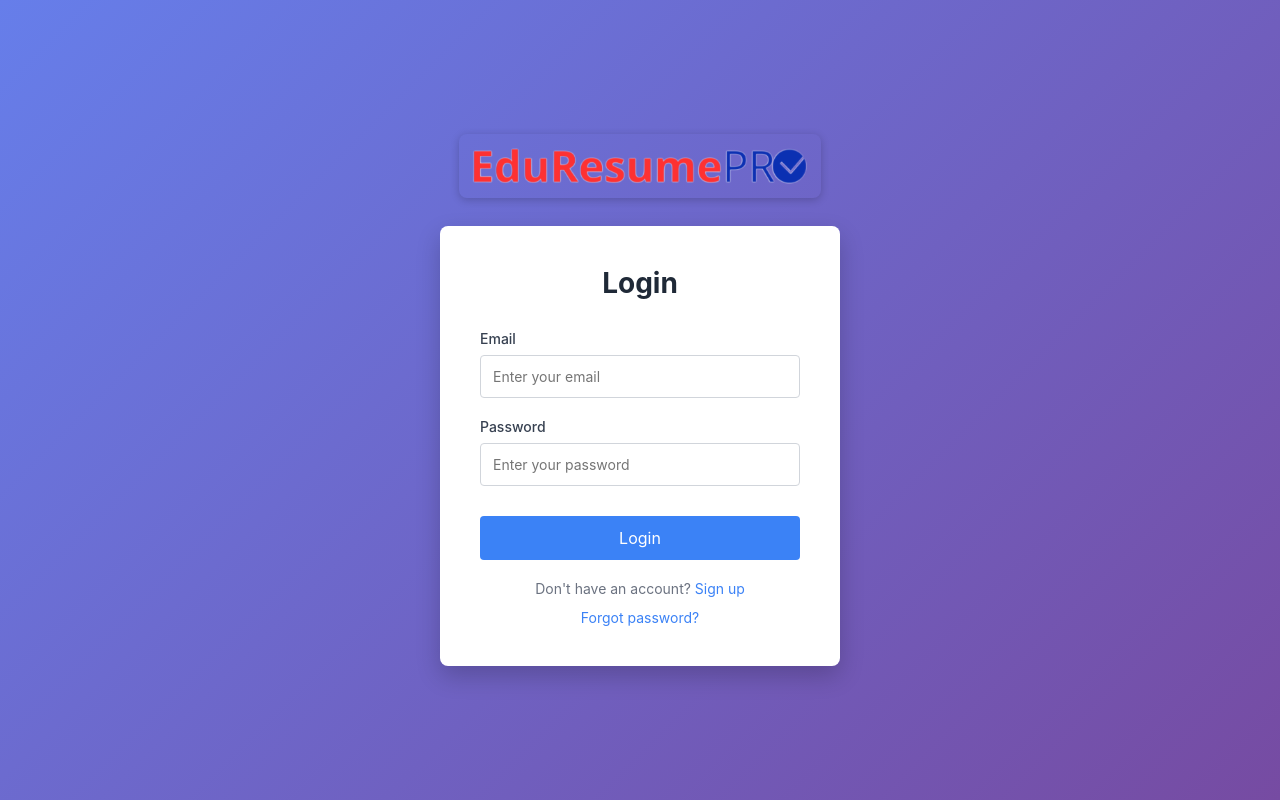
Scenario: Login Component › handles invalid login credentials gracefully
Type "bad@test.com" into the field labelled "Email" at (640, 376), box [480, 355, 800, 398]
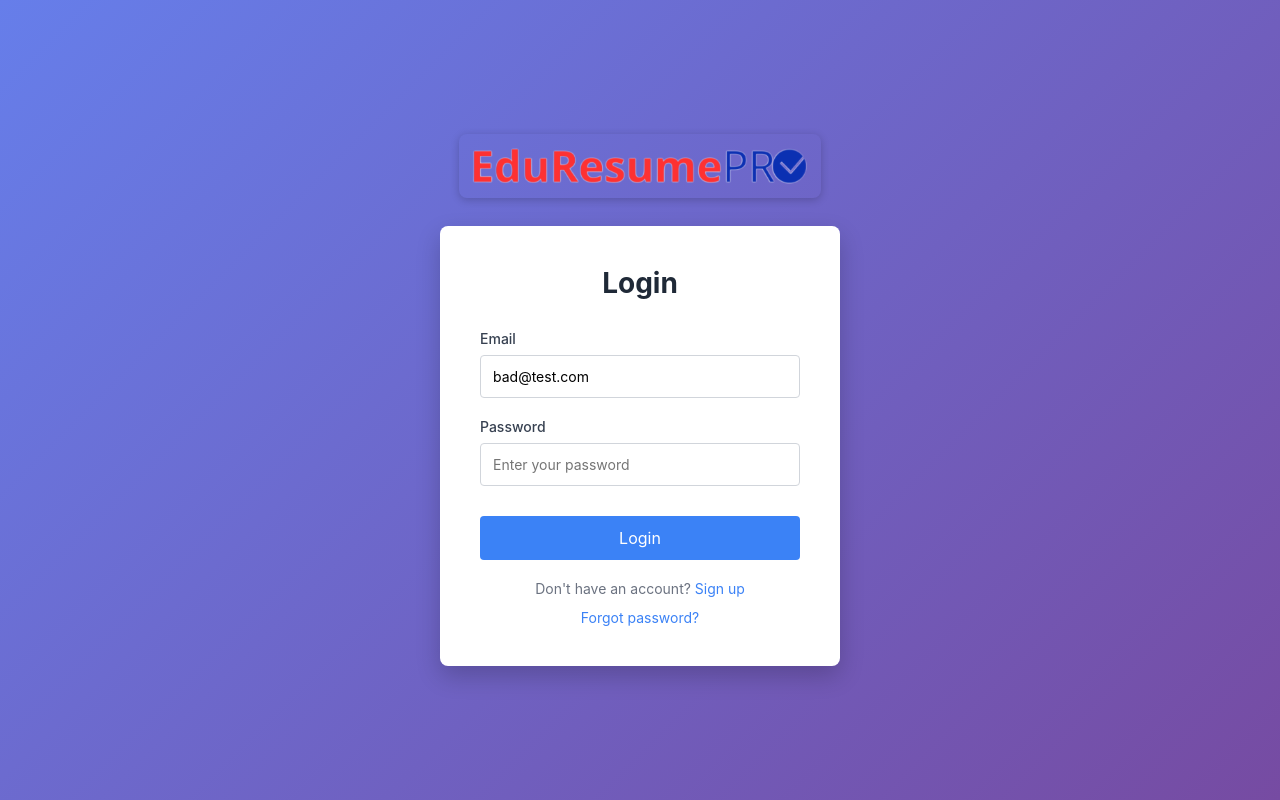
Type "wrong" into the password field labelled "Password" at (640, 464), box [480, 443, 800, 486]
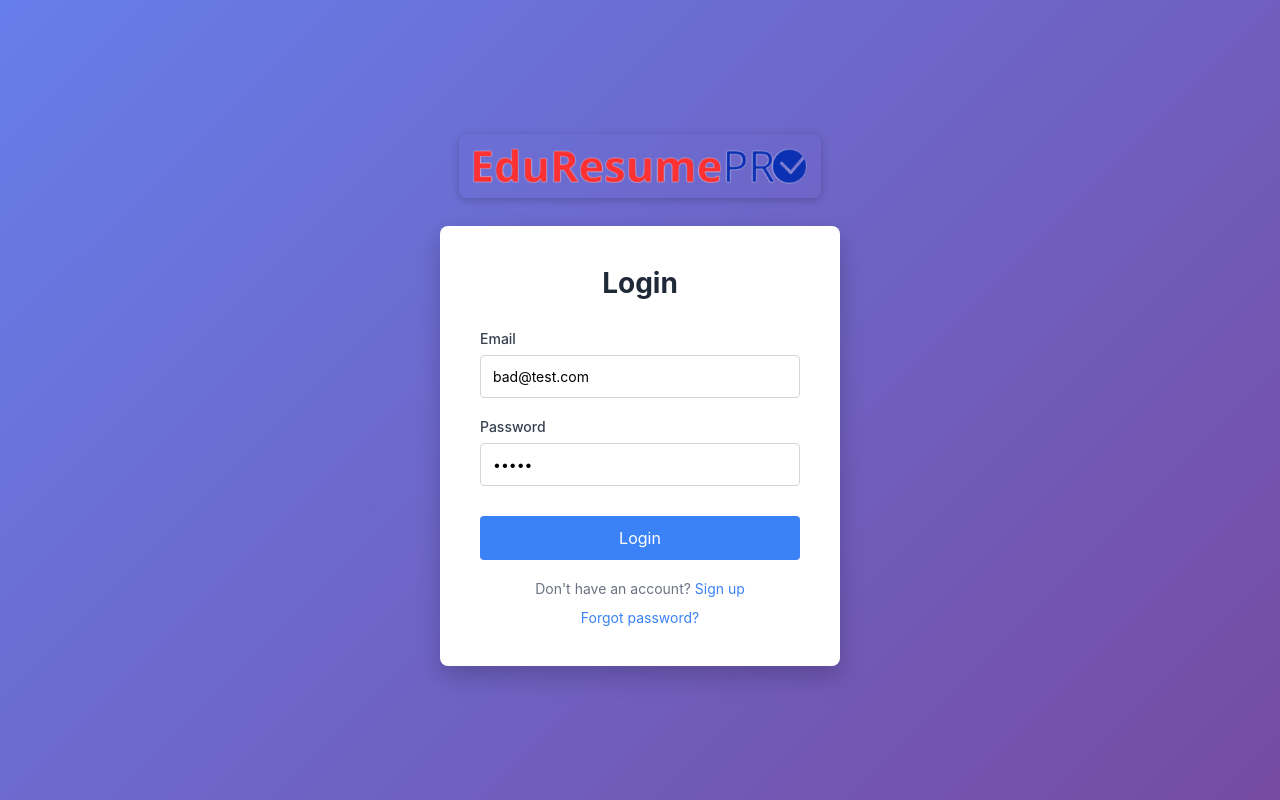
Click the button "Login" at (640, 538), box [480, 516, 800, 560]
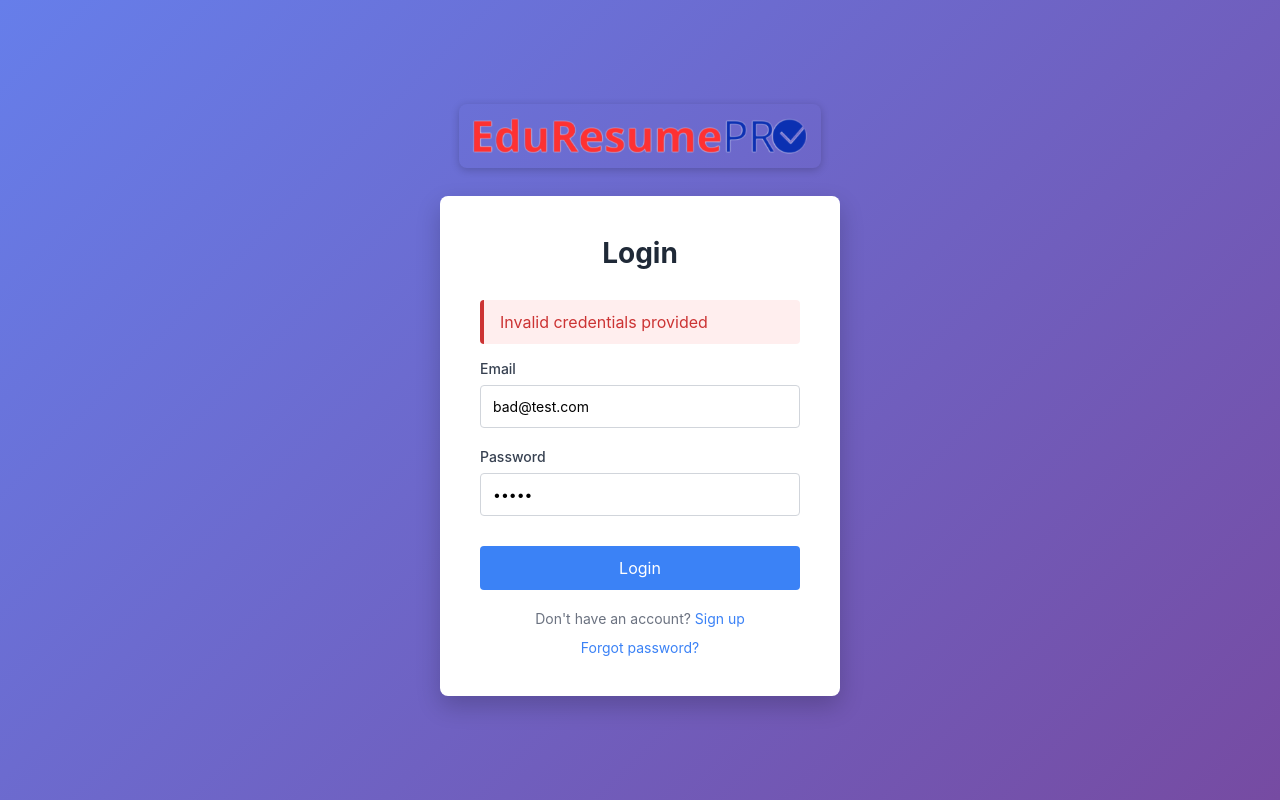
expect the text "Invalid credentials provided" is shown: met, box [480, 300, 800, 344]
